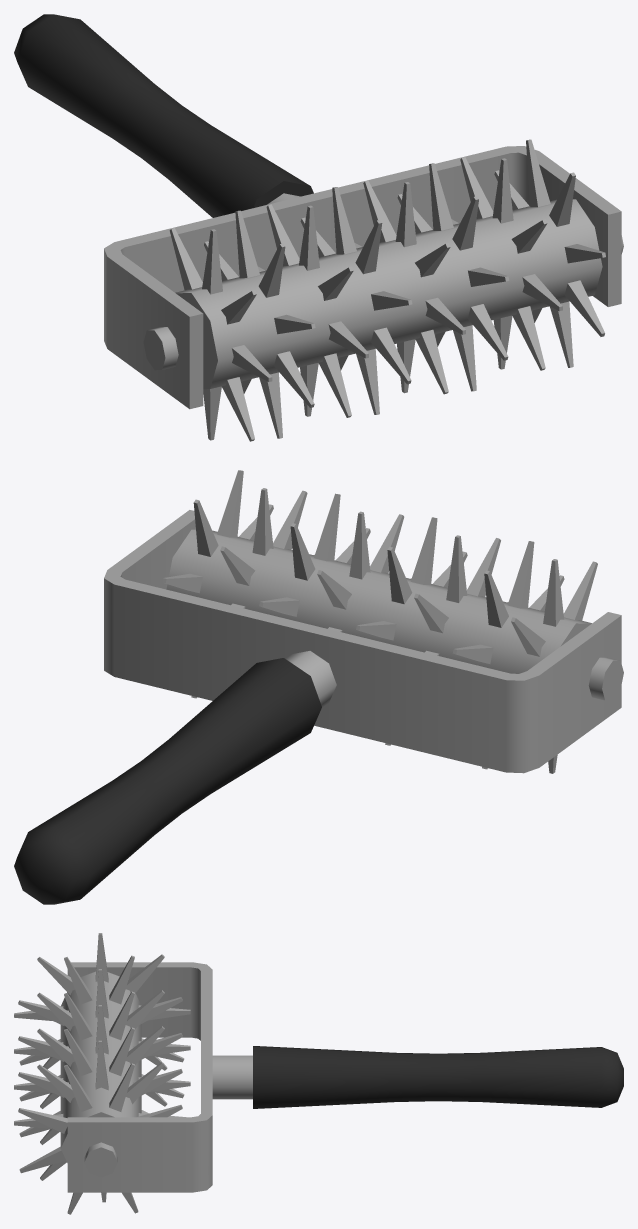
Rendered from RollerDocker_01.fbx.
3 views of the same model, one above another, from view 1: azimuth 30°, elevation 25°; view 2: azimuth 150°, elevation 25°; view 3: azimuth 270°, elevation 25° (orthographic). The views are drawn at different scales.
Parts seen in each view (by area): view 1: RollerDocker_01_RollingBit, RollerDocker_01; view 2: RollerDocker_01, RollerDocker_01_RollingBit; view 3: RollerDocker_01, RollerDocker_01_RollingBit.
Part boxes in pixels (left/top/right/bottom): RollerDocker_01_RollingBit: left=169, top=139, right=605, bottom=441; RollerDocker_01: left=14, top=14, right=623, bottom=409; RollerDocker_01: left=14, top=510, right=623, bottom=904; RollerDocker_01_RollingBit: left=162, top=470, right=597, bottom=773; RollerDocker_01: left=67, top=962, right=623, bottom=1192; RollerDocker_01_RollingBit: left=14, top=933, right=190, bottom=1214.
Size of the model in its own units: 0.1088 by 0.0478 by 0.1651.
